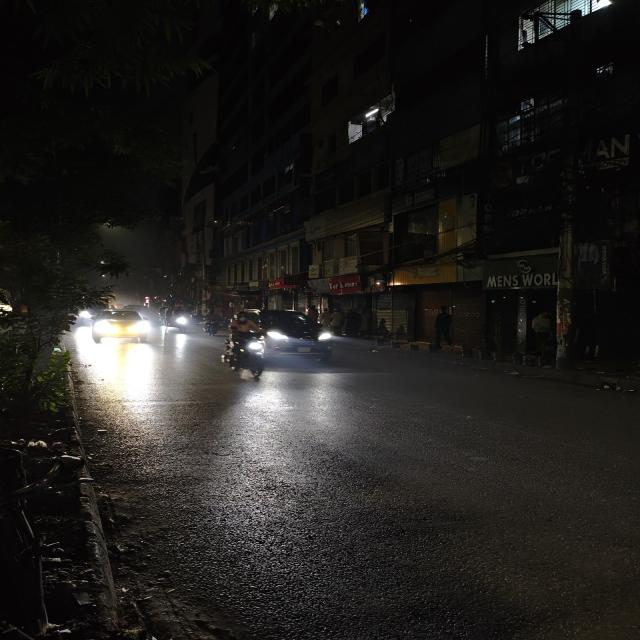car: (257, 307, 340, 365), (90, 307, 151, 346)
motorcycle: (216, 312, 274, 382)
rickshaw: (164, 304, 194, 333), (201, 310, 225, 336)
